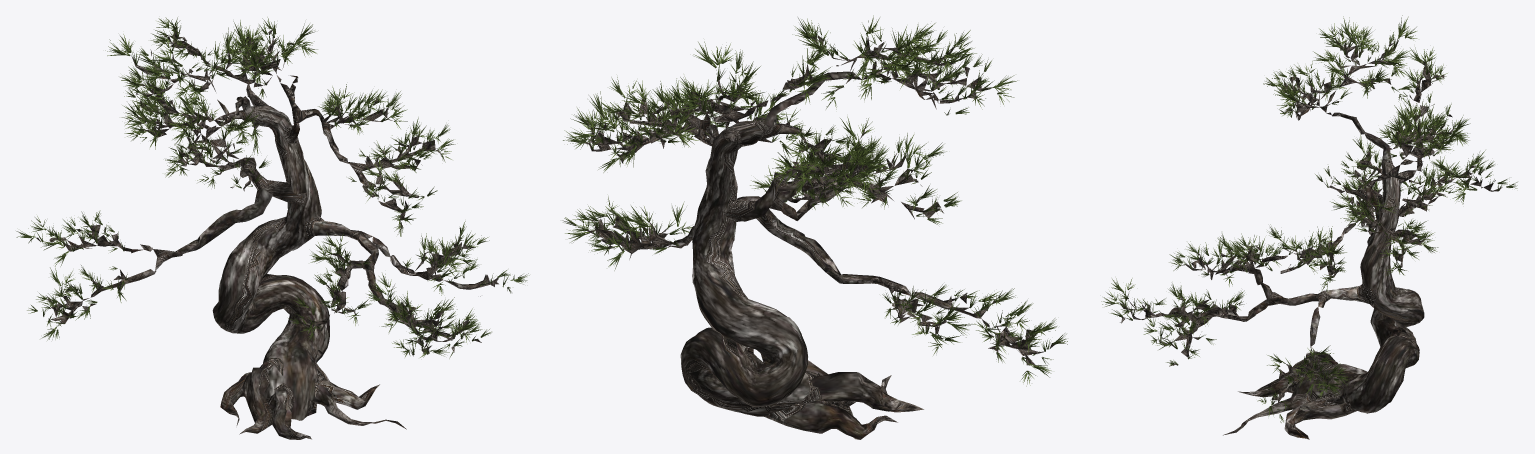
File: pine.glb
3 views of the same model, side by side, from view 1: azimuth 30°, elevation 25°; view 2: azimuth 150°, elevation 25°; view 3: azimuth 270°, elevation 25° (orthographic). The views are drawn at different scales.
Parts seen in each view (by area): view 1: Pine.Shape_Pine_0, Pine.Shape_Leaves_0; view 2: Pine.Shape_Pine_0, Pine.Shape_Leaves_0; view 3: Pine.Shape_Pine_0, Pine.Shape_Leaves_0.
Boxes of the visible parts, box(x1,y1,x2,y2) form: Pine.Shape_Pine_0: box(36, 26, 498, 439); Pine.Shape_Leaves_0: box(16, 17, 529, 358); Pine.Shape_Pine_0: box(582, 35, 1055, 439); Pine.Shape_Leaves_0: box(562, 15, 1067, 386); Pine.Shape_Pine_0: box(1119, 36, 1502, 439); Pine.Shape_Leaves_0: box(1101, 15, 1517, 422).
Bounding box in the file's own units: 13.21 × 10.27 × 11.67.
Materials: 2 (2 with a texture image).
